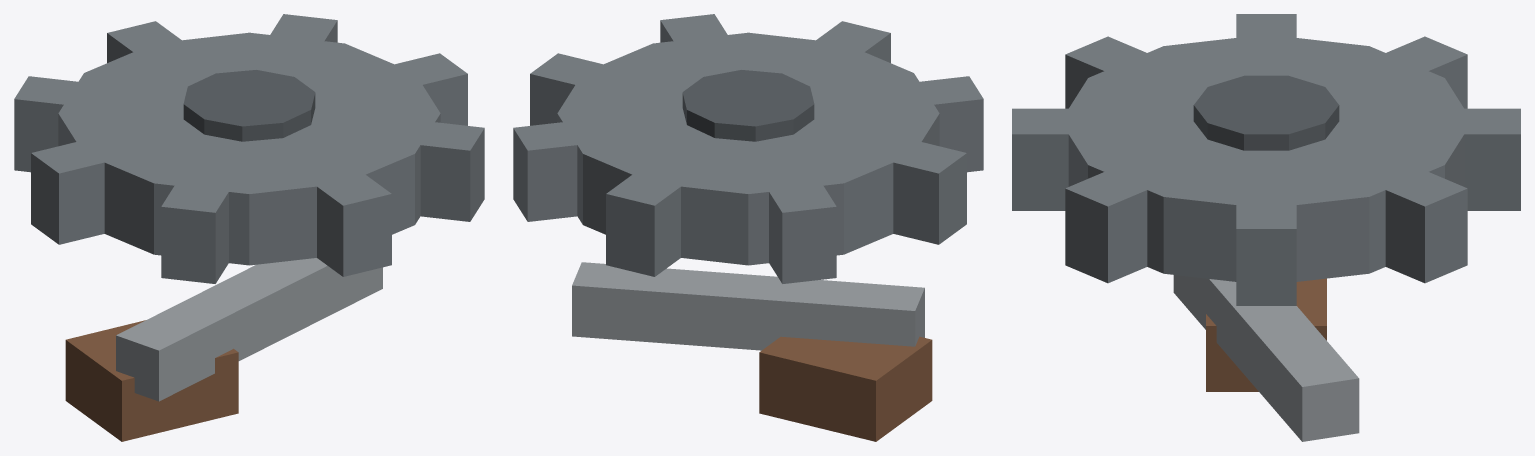
File: item_good_machine_parts.glb
3 views of the same model, side by side, from view 1: azimuth 30°, elevation 25°; view 2: azimuth 150°, elevation 25°; view 3: azimuth 270°, elevation 25° (orthographic). The views are drawn at different scales.
Parts seen in each view (by area): view 1: gear, rod, bracket, hub, tooth6, tooth4, tooth5, tooth7, tooth3, tooth0, tooth2, tooth1; view 2: gear, rod, bracket, hub, tooth4, tooth2, tooth3, tooth1, tooth5, tooth0, tooth6, tooth7; view 3: gear, rod, hub, tooth7, tooth1, tooth0, tooth2, tooth6, bracket, tooth3, tooth5, tooth4.
Part boxes in pixels (<box>): gear: <box>58,32,440,265</box>; rod: <box>116,258,382,401</box>; bracket: <box>65,320,238,441</box>; hub: <box>183,70,315,141</box>; tooth6: <box>311,170,391,276</box>; tooth4: <box>31,139,114,244</box>; tooth5: <box>161,179,232,283</box>; tooth7: <box>406,121,484,221</box>; tooth3: <box>14,76,93,172</box>; tooth0: <box>382,53,467,125</box>; tooth2: <box>107,21,187,62</box>; tooth1: <box>267,14,337,46</box>; gear: <box>557,32,939,265</box>; rod: <box>572,262,924,350</box>; bracket: <box>759,336,932,441</box>; hub: <box>682,70,814,141</box>; tooth4: <box>881,139,966,244</box>; tooth2: <box>606,170,687,276</box>; tooth3: <box>765,179,836,283</box>; tooth1: <box>513,121,592,221</box>; tooth5: <box>906,76,983,172</box>; tooth0: <box>530,53,615,125</box>; tooth6: <box>810,21,890,62</box>; tooth7: <box>660,14,729,46</box>; gear: <box>1062,34,1470,281</box>; rod: <box>1173,275,1359,441</box>; hub: <box>1193,75,1339,150</box>; tooth7: <box>1065,167,1158,283</box>; tooth1: <box>1374,170,1467,283</box>; tooth0: <box>1236,198,1296,305</box>; tooth2: <box>1448,108,1520,210</box>; tooth6: <box>1012,108,1084,210</box>; bracket: <box>1206,278,1326,391</box>; tooth3: <box>1374,36,1467,108</box>; tooth5: <box>1065,36,1156,108</box>; tooth4: <box>1236,14,1296,44</box>.
Bounding box in the file's own units: 0.84 × 0.56 × 0.84.
